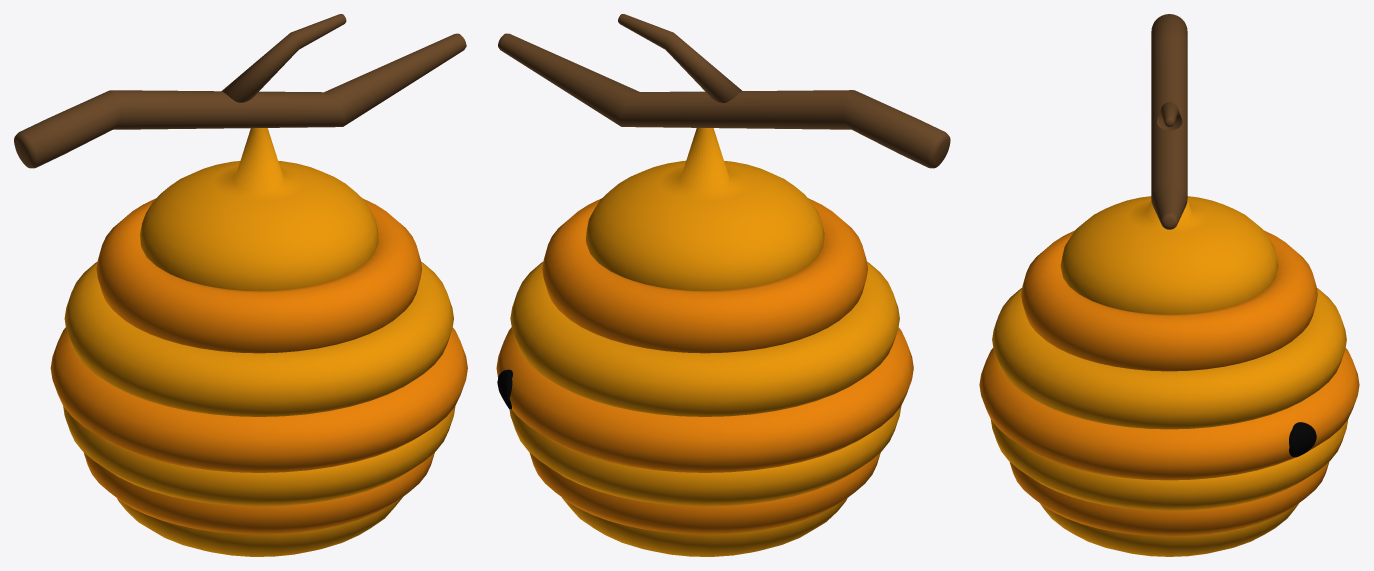
File: beehive.glb
The picture shows the model from 3 angles, left to right: view 1: azimuth 30°, elevation 25°; view 2: azimuth 150°, elevation 25°; view 3: azimuth 270°, elevation 25°; orthographic projection. The views are drawn at different scales.
Parts seen in each view (by area): view 1: Torus.012, Sphere.041, Torus.016, Torus.013, branch.001, Torus.014, Torus.015, Sphere.039, branch2.001; view 2: Torus.012, Sphere.041, Torus.016, Torus.013, branch.001, Torus.014, Torus.015, Sphere.039, branch2.001; view 3: Torus.012, Sphere.041, Torus.013, Torus.016, Torus.014, Torus.015, branch.001, Sphere.039, Cylinder.039, branch2.001.
Boxes of the visible parts, x1,y1,x2,y2 form: Torus.012: [64, 261, 453, 416]; Sphere.041: [140, 128, 378, 291]; Torus.016: [50, 327, 467, 472]; Torus.013: [96, 198, 421, 353]; branch.001: [14, 33, 466, 168]; Torus.014: [63, 406, 455, 506]; Torus.015: [83, 452, 434, 534]; Sphere.039: [117, 497, 402, 556]; branch2.001: [221, 14, 346, 102]; Torus.012: [510, 261, 899, 416]; Sphere.041: [585, 128, 824, 290]; Torus.016: [496, 327, 913, 472]; Torus.013: [542, 198, 867, 353]; branch.001: [498, 33, 950, 168]; Torus.014: [509, 406, 901, 506]; Torus.015: [529, 452, 880, 534]; Sphere.039: [562, 497, 847, 556]; branch2.001: [618, 14, 742, 102]; Torus.012: [992, 288, 1346, 429]; Sphere.041: [1060, 196, 1278, 314]; Torus.013: [1021, 230, 1317, 371]; Torus.016: [979, 348, 1359, 480]; Torus.014: [991, 420, 1347, 510]; Torus.015: [1009, 461, 1329, 536]; branch.001: [1151, 14, 1187, 229]; Sphere.039: [1040, 503, 1298, 556]; Cylinder.039: [1289, 422, 1316, 457]; branch2.001: [1157, 102, 1182, 130].
Bounding box in the file's own units: 3.76 × 4 × 3.05.
